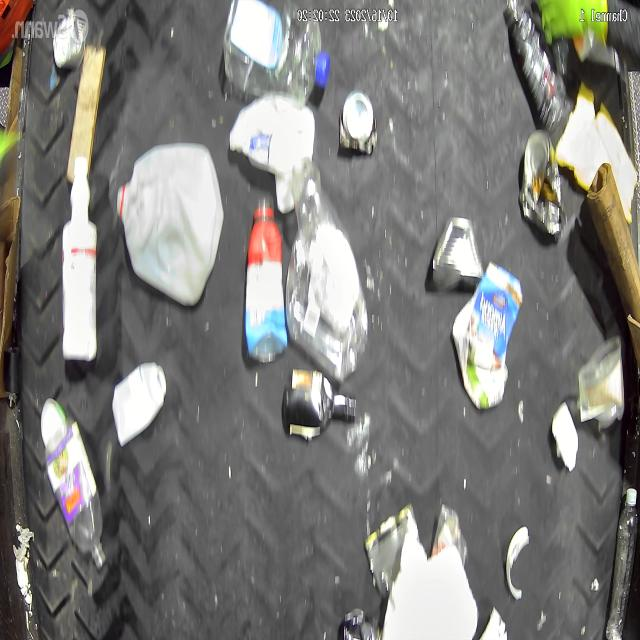can: (362, 501, 422, 598), (519, 127, 567, 243), (428, 214, 486, 296), (338, 90, 378, 156), (50, 15, 87, 70), (342, 604, 364, 640)
milk_jug: (114, 140, 225, 308), (228, 93, 316, 217)
non_white_jug: (286, 158, 368, 384)
plastic_bottle: (222, 0, 330, 104)
